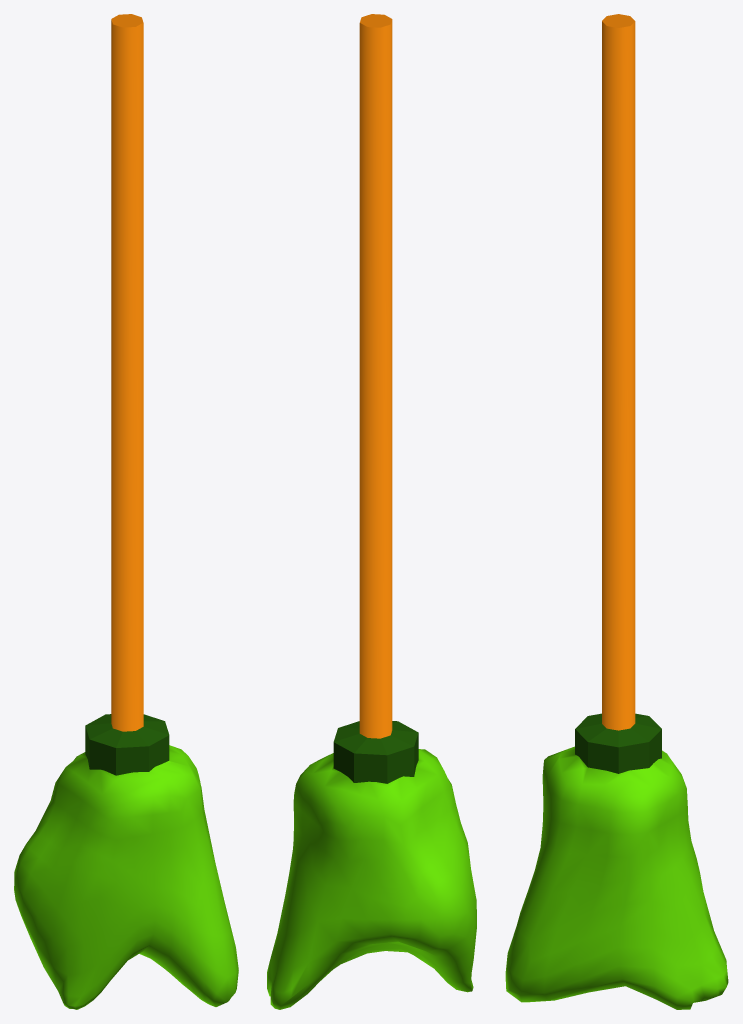
The model's file is fregona.fbx.
The picture shows the model from 3 angles, left to right: view 1: azimuth 30°, elevation 25°; view 2: azimuth 150°, elevation 25°; view 3: azimuth 270°, elevation 25°; orthographic projection.
Visible parts, largest first — view 1: Cylinder; view 2: Cylinder; view 3: Cylinder.
Boxes of the visible parts, box(x1,y1,x2,y2) form: Cylinder: box(14, 14, 238, 1009); Cylinder: box(267, 14, 476, 1009); Cylinder: box(505, 14, 728, 1009).
Size of the model in its own units: 82.14 by 422 by 88.89.
